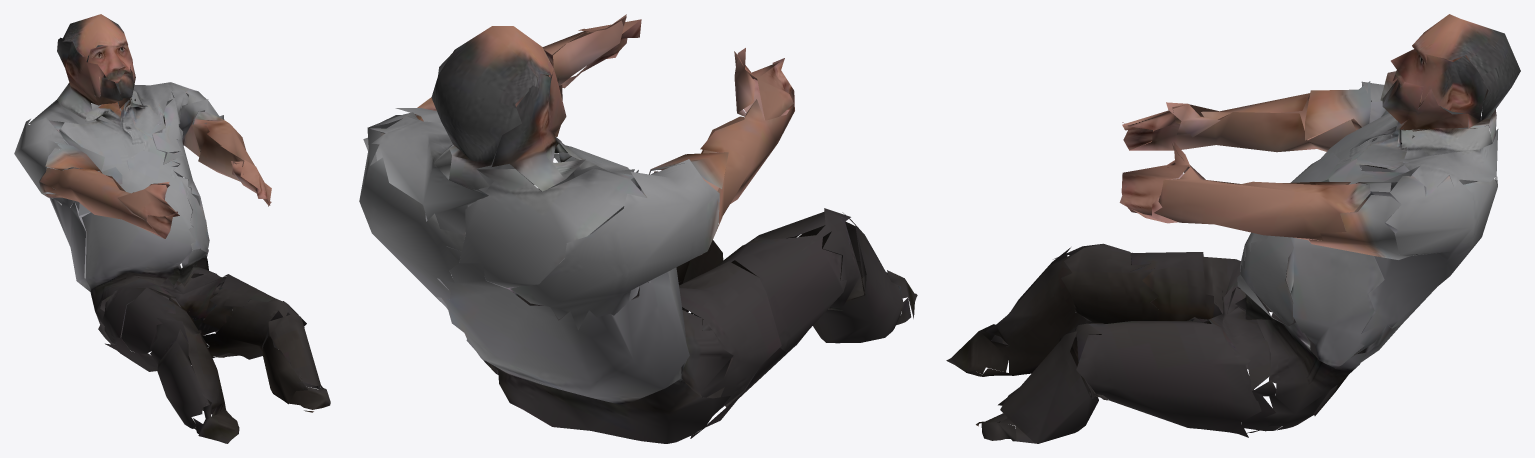
File: homme_fort.glb
The picture shows the model from 3 angles, left to right: view 1: azimuth 30°, elevation 25°; view 2: azimuth 150°, elevation 25°; view 3: azimuth 270°, elevation 25°; orthographic projection. The views are drawn at different scales.
Parts seen in each view (by area): view 1: driver; view 2: driver; view 3: driver.
Part boxes in pixels (x1=…): driver: x1=14, y1=14, x2=330, y2=443; driver: x1=359, y1=14, x2=917, y2=443; driver: x1=946, y1=14, x2=1520, y2=443.
Bounding box in the file's own units: 0.6982 × 0.9474 × 1.29.
Materials: 1 (1 with a texture image).
